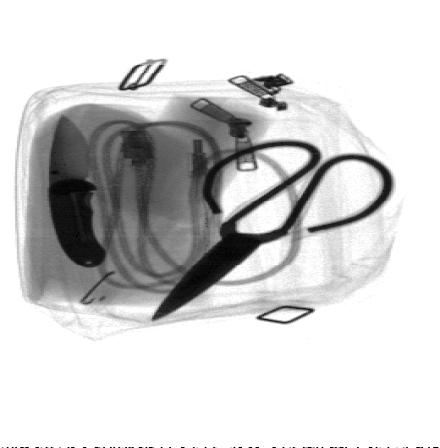Knife: (46, 114, 105, 269)
Scissors: (149, 138, 394, 323)
